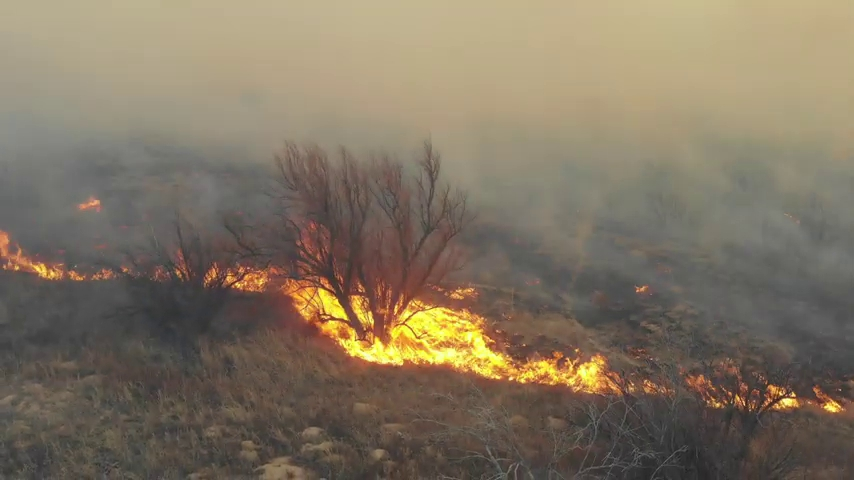forest_fire: (276, 279, 618, 393), (0, 230, 114, 279), (772, 386, 842, 410), (232, 269, 278, 290), (686, 375, 710, 392), (444, 287, 477, 299), (638, 380, 663, 393), (764, 385, 781, 395), (729, 392, 753, 399), (707, 395, 719, 405), (356, 311, 365, 317), (636, 288, 642, 291)
